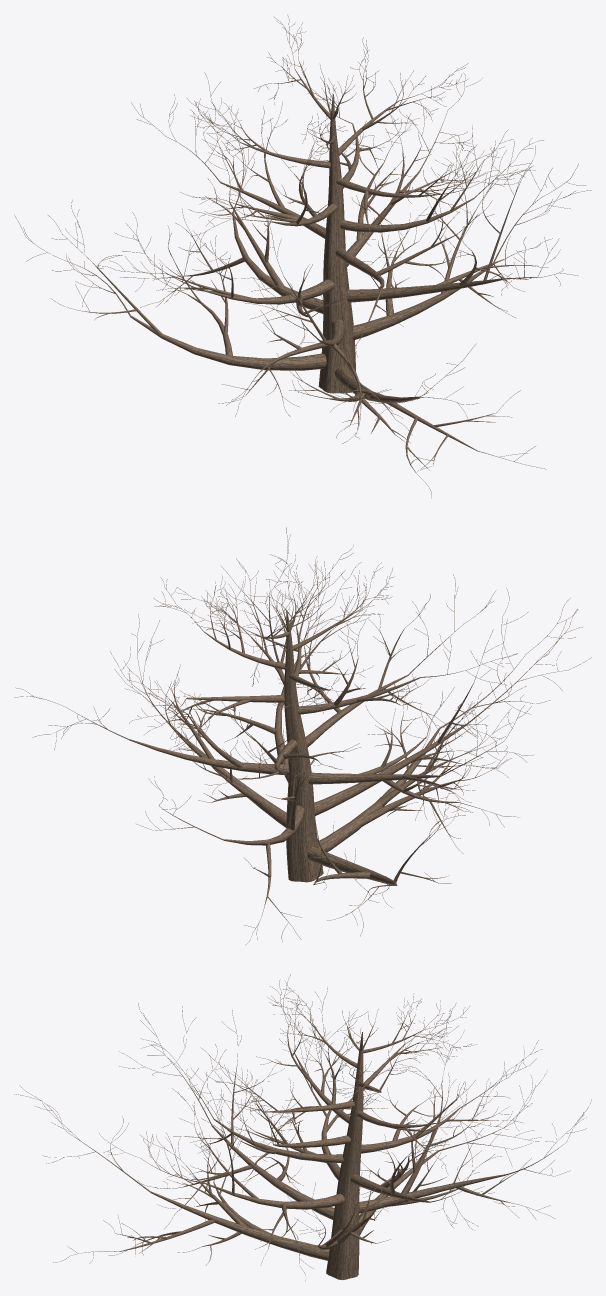
File: crown_3.glb
3 views of the same model, one above another, from view 1: azimuth 30°, elevation 25°; view 2: azimuth 150°, elevation 25°; view 3: azimuth 270°, elevation 25° (orthographic). The views are drawn at different scales.
Bounding box in the file's own units: 11.02 × 7.48 × 14.01.
Materials: 1 (1 with a texture image).
